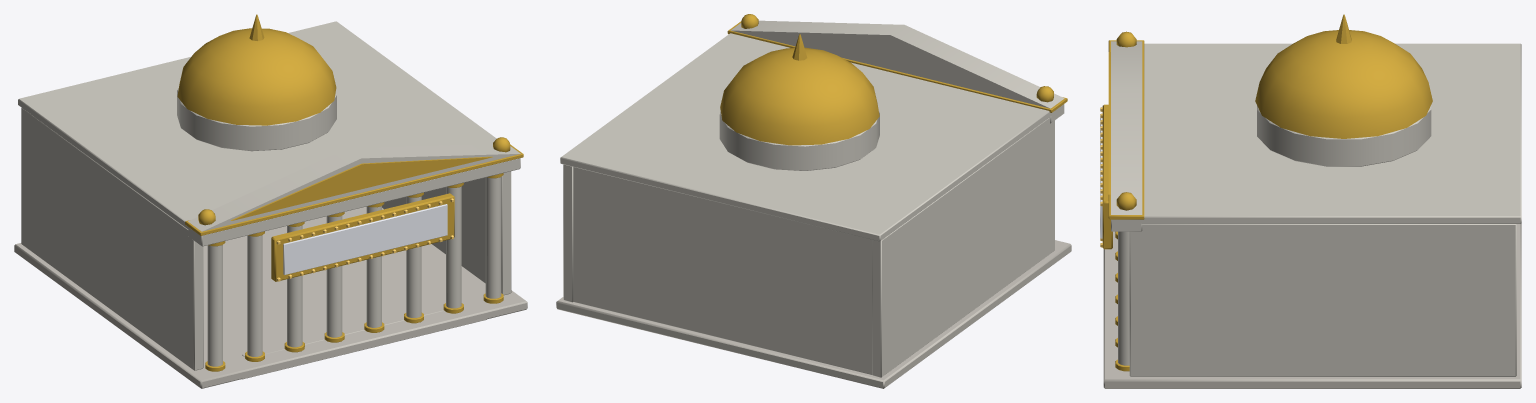
The model's file is 193_casino_palace.fbx.
3 renders of one model, left to right at view 1: azimuth 30°, elevation 25°; view 2: azimuth 150°, elevation 25°; view 3: azimuth 270°, elevation 25°, orthographic. The views are drawn at different scales.
Parts seen in each view (by area): view 1: Murs, Toit, Enseigne; view 2: Murs, Toit; view 3: Toit, Murs, Enseigne.
Part boxes in pixels (x1,y1,x2,y2): Murs: (14, 108, 527, 388); Toit: (18, 14, 520, 234); Enseigne: (271, 193, 454, 281); Murs: (556, 21, 1071, 388); Toit: (560, 14, 1064, 241); Toit: (1108, 14, 1521, 223); Murs: (1103, 40, 1521, 388); Enseigne: (1100, 104, 1112, 249).
Bounding box in the file's own units: 11.2 × 8.4 × 11.2.
Materials: 1 (1 with a texture image).
